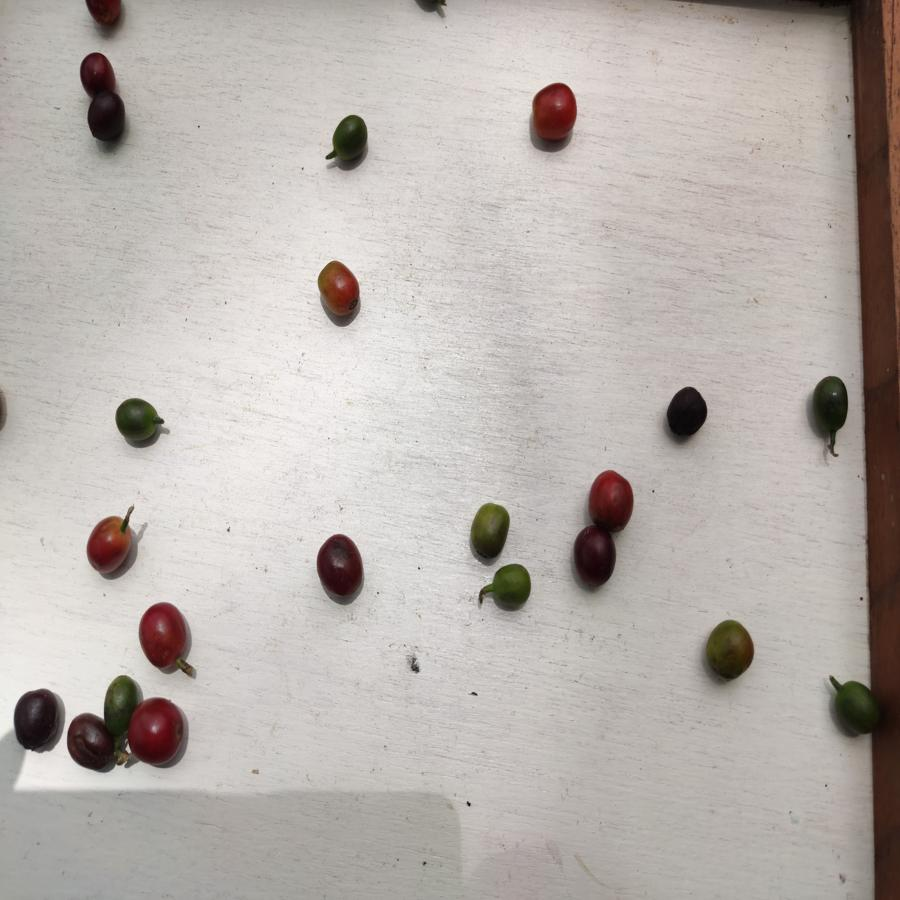Inmaduro: (832, 678, 882, 740), (812, 374, 853, 435), (487, 560, 535, 609), (113, 397, 162, 443), (331, 115, 369, 162), (105, 671, 132, 731)
Maduro: (129, 697, 186, 767), (139, 601, 189, 668), (586, 468, 635, 532), (86, 514, 134, 576), (528, 83, 577, 140)
Pinton: (705, 620, 757, 680), (316, 259, 362, 314), (471, 498, 510, 557)
Sobremaduro: (316, 531, 365, 598), (14, 687, 62, 752), (65, 715, 116, 772), (575, 526, 617, 589), (663, 387, 709, 438), (86, 92, 124, 147), (80, 52, 117, 98)
